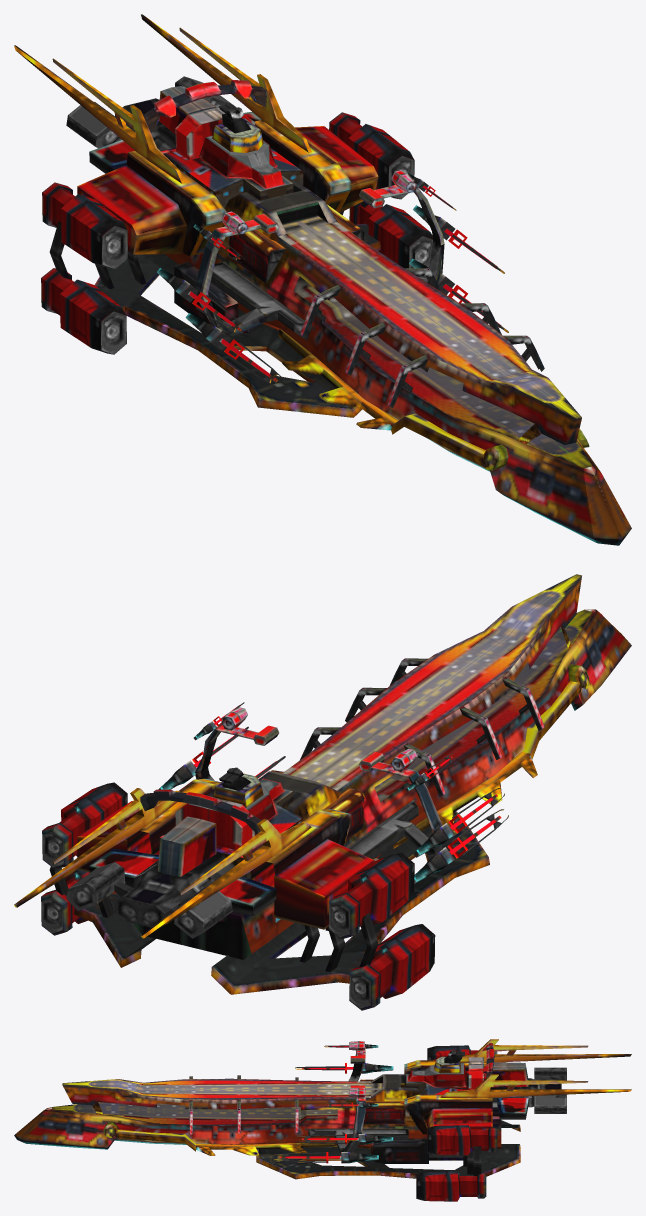
Rendered from mx_Zhengfu_03.fbx.
3 renders of one model, top to bottom at view 1: azimuth 30°, elevation 25°; view 2: azimuth 150°, elevation 25°; view 3: azimuth 270°, elevation 25°, orthographic. The views are drawn at different scales.
Parts seen in each view (by area): view 1: mx_Zhengfu_03; view 2: mx_Zhengfu_03; view 3: mx_Zhengfu_03.
Part boxes in pixels (x1,y1,x2,y2): mx_Zhengfu_03: [14, 14, 631, 545]; mx_Zhengfu_03: [14, 574, 631, 1010]; mx_Zhengfu_03: [14, 1039, 631, 1201].
Bounding box in the file's own units: 266 × 140 × 728.
